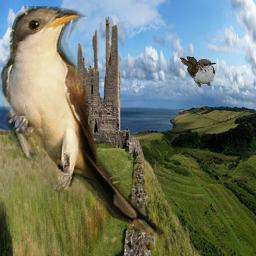Cuckoo: (0, 6, 167, 247), (180, 56, 216, 88)
